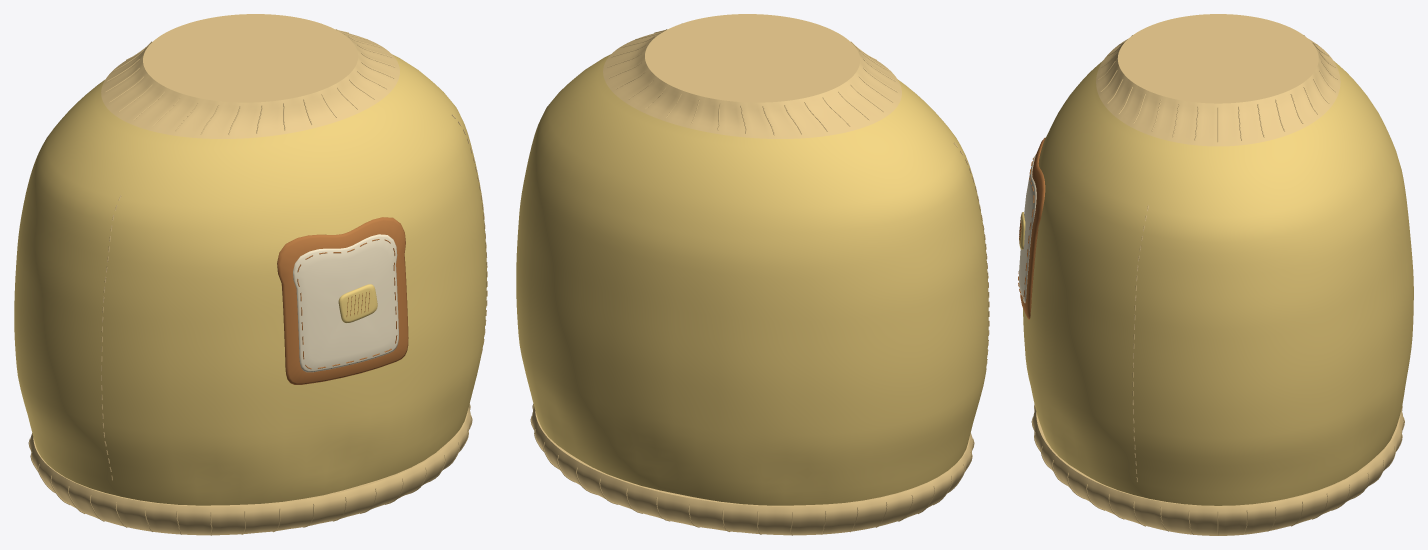
3 views of the same model, side by side, from view 1: azimuth 30°, elevation 25°; view 2: azimuth 150°, elevation 25°; view 3: azimuth 270°, elevation 25° (orthographic). The views are drawn at different scales.
Parts seen in each view (by area): view 1: Body_mesh; view 2: Body_mesh; view 3: Body_mesh.
Boxes of the visible parts, x1=… form: Body_mesh: x1=14, y1=14, x2=487, y2=535; Body_mesh: x1=516, y1=14, x2=989, y2=535; Body_mesh: x1=1018, y1=14, x2=1413, y2=535.
Bounding box in the file's own units: 0.354 × 0.337 × 0.2914.
